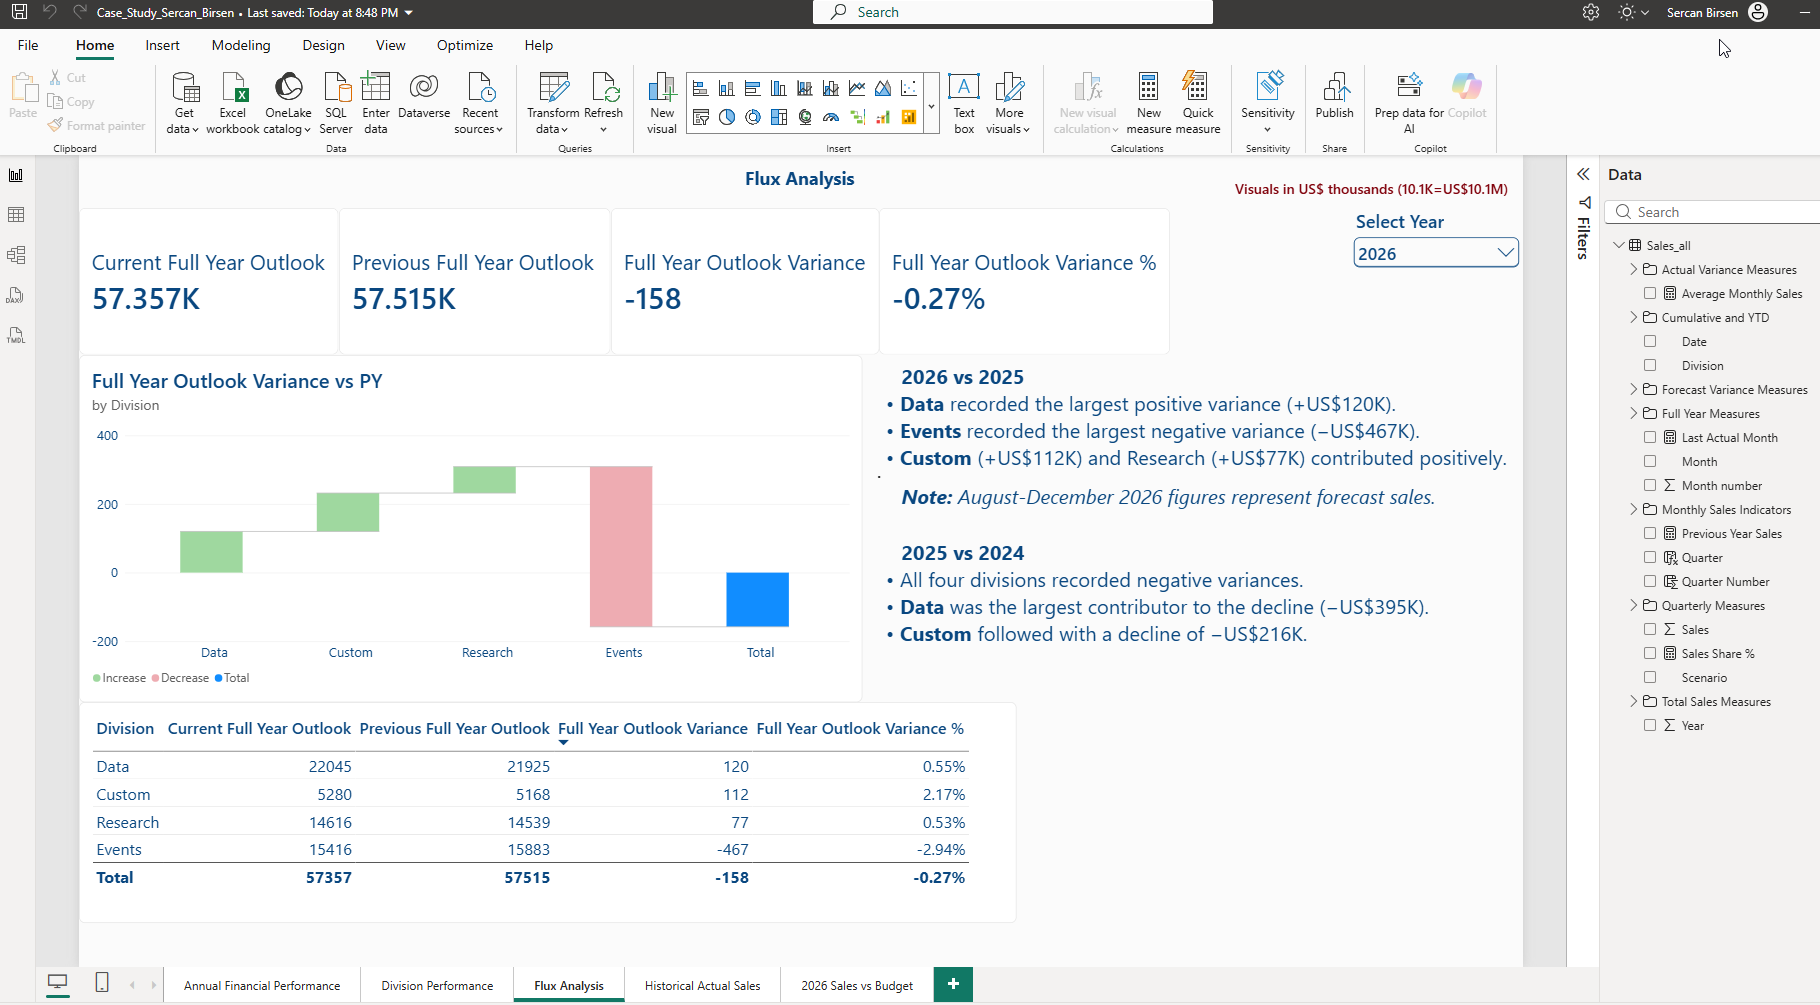

The dashboard page shown, as its layout file describes it:
{"tool":"powerbi","page":{"name":"Flux Analysis","canvas":[1920,1080],"ordinal":2},"visuals":[{"type":"slicer","fields":{"Values":["Sales_all.Year"]},"box":[1690,70,230,90],"z":0},{"type":"tableEx","fields":{"Values":["Sales_all.Division","Sales_all.Full Year Outlook","Sales_all.Previous Year Sales","Sales_all.Full Year Outlook vs PY","Sales_all.Full Year Outlook vs PY %"]},"box":[0,727.1,1247.1,294.3],"z":1000},{"type":"waterfallChart","fields":{"Category":["Sales_all.Division"],"Y":["Sales_all.Full Year Outlook vs PY"]},"box":[0,265.7,1041.7,461.7],"z":2000},{"type":"cardVisual","fields":{"Data":["Sales_all.Previous Year Sales"]},"box":[345.7,70,361.4,195.7],"z":3000},{"type":"cardVisual","fields":{"Data":["Sales_all.Full Year Outlook"]},"box":[0,70,345.7,195.7],"z":4000},{"type":"cardVisual","fields":{"Data":["Sales_all.Full Year Outlook Variance vs PY"]},"box":[707.1,70,357.1,195.7],"z":5000},{"type":"cardVisual","fields":{"Data":["Sales_all.Full Year Outlook Variance vs PY %"]},"box":[1064.3,70,387.1,195.7],"z":6000},{"type":"textbox","box":[1537.1,31.4,371.4,38.6],"z":7000},{"type":"textbox","box":[1051.4,275.7,868.6,451.4],"z":8000},{"type":"textbox","box":[885.7,12.9,150,37.1],"z":9000}]}

Visuals, with their boxes on the page's 1920x1080 design canvas (x1, y1, x2, y2). These are canvas units, not pixel positions in the 1820x1005 screenshot, which may show the page scaled, cropped or inside an application window:
slicer - Sales_all.Year: l=1690, t=70, r=1920, b=160
tableEx - Sales_all.Division x Sales_all.Full Year Outlook: l=0, t=727, r=1247, b=1021
waterfallChart - Sales_all.Division x Sales_all.Full Year Outlook vs PY: l=0, t=266, r=1042, b=727
cardVisual - Sales_all.Previous Year Sales: l=346, t=70, r=707, b=266
cardVisual - Sales_all.Full Year Outlook: l=0, t=70, r=346, b=266
cardVisual - Sales_all.Full Year Outlook Variance vs PY: l=707, t=70, r=1064, b=266
cardVisual - Sales_all.Full Year Outlook Variance vs PY %: l=1064, t=70, r=1451, b=266
textbox: l=1537, t=31, r=1908, b=70
textbox: l=1051, t=276, r=1920, b=727
textbox: l=886, t=13, r=1036, b=50
